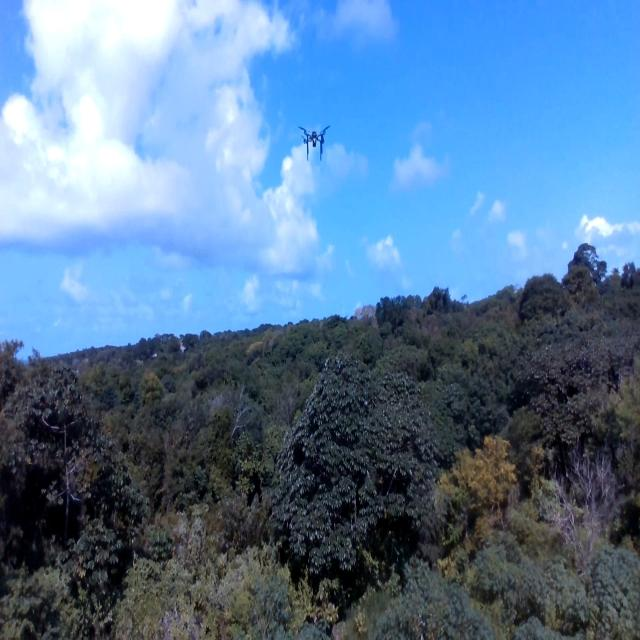-uav-: (293, 109, 336, 172)
